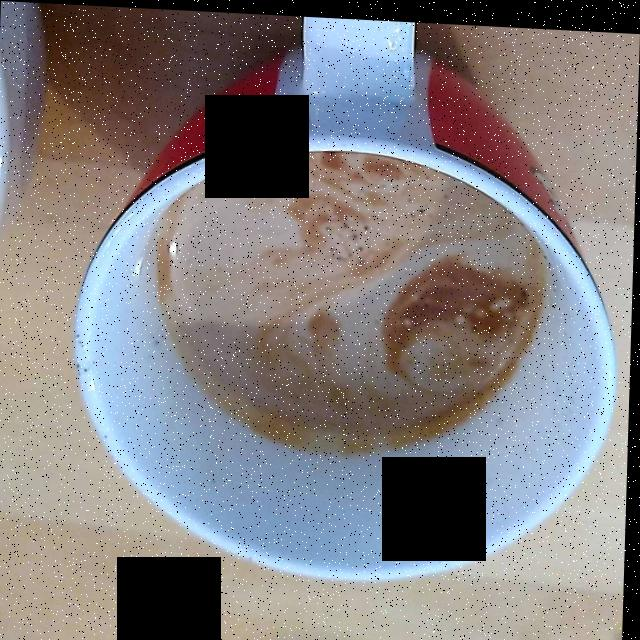ristretto-with-caffeine: (162, 153, 544, 446)
